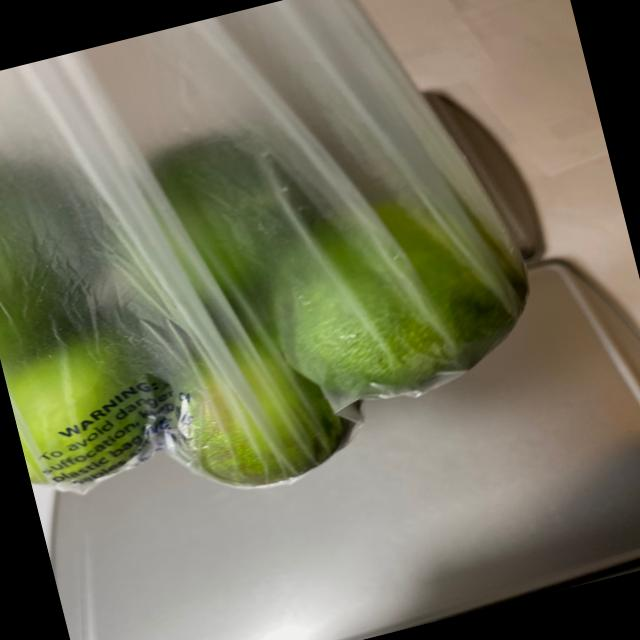lemon: (0, 58, 549, 524)
